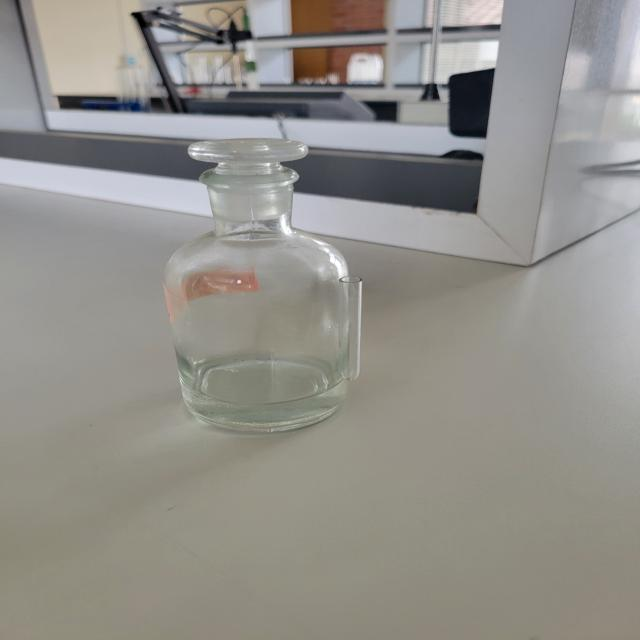Reagent_Bottle: (132, 104, 402, 452)
